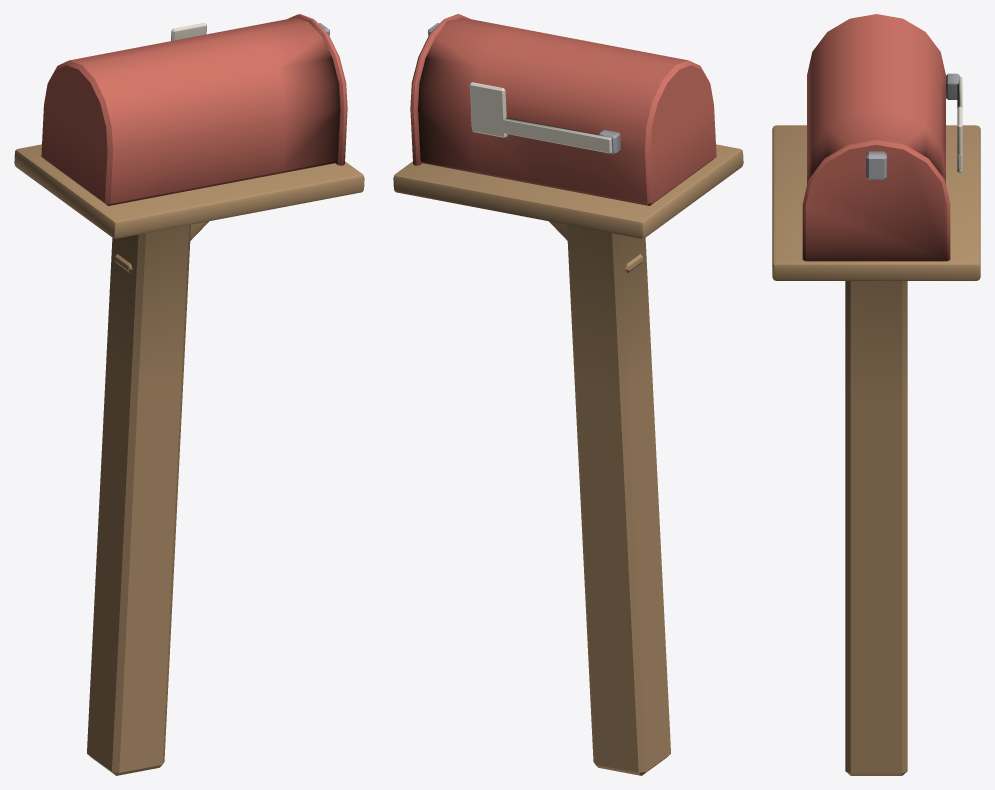
The model's file is mailbox.glb.
3 renders of one model, left to right at view 1: azimuth 30°, elevation 25°; view 2: azimuth 150°, elevation 25°; view 3: azimuth 270°, elevation 25°, orthographic. The views are drawn at different scales.
Parts seen in each view (by area): view 1: PART; view 2: PART; view 3: PART.
Boxes of the visible parts, <box> form: PART: <box>14,14,364,775</box>; PART: <box>393,14,743,775</box>; PART: <box>772,14,980,775</box>.
Bounding box in the file's own units: 0.4489 × 1.16 × 0.3.
